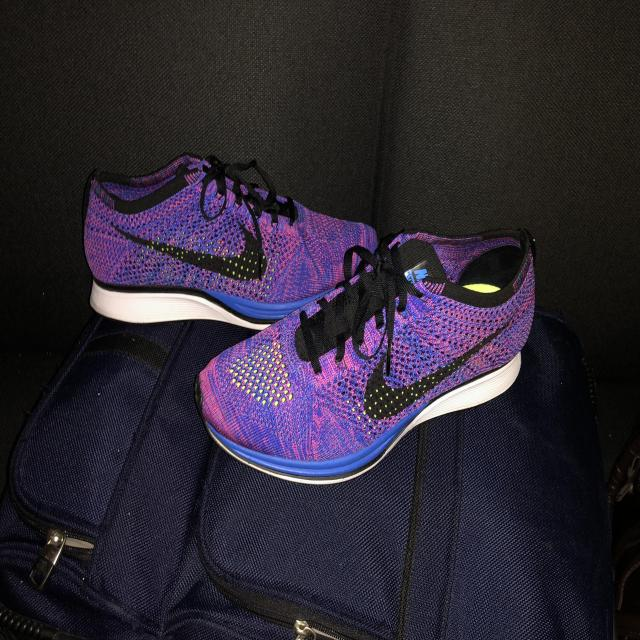shoe: (198, 230, 540, 488), (85, 159, 368, 321)
